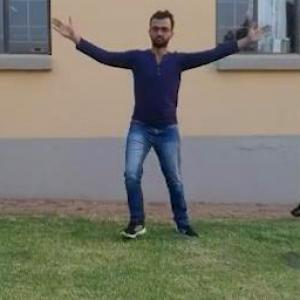takeoff: (45, 8, 241, 219)
